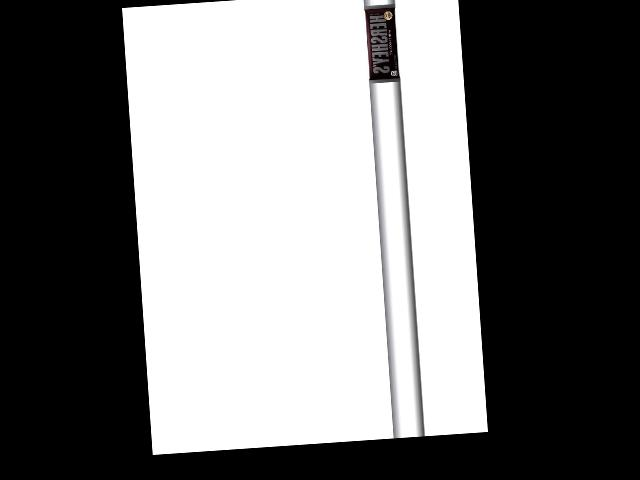chocolate: (365, 5, 403, 83)
